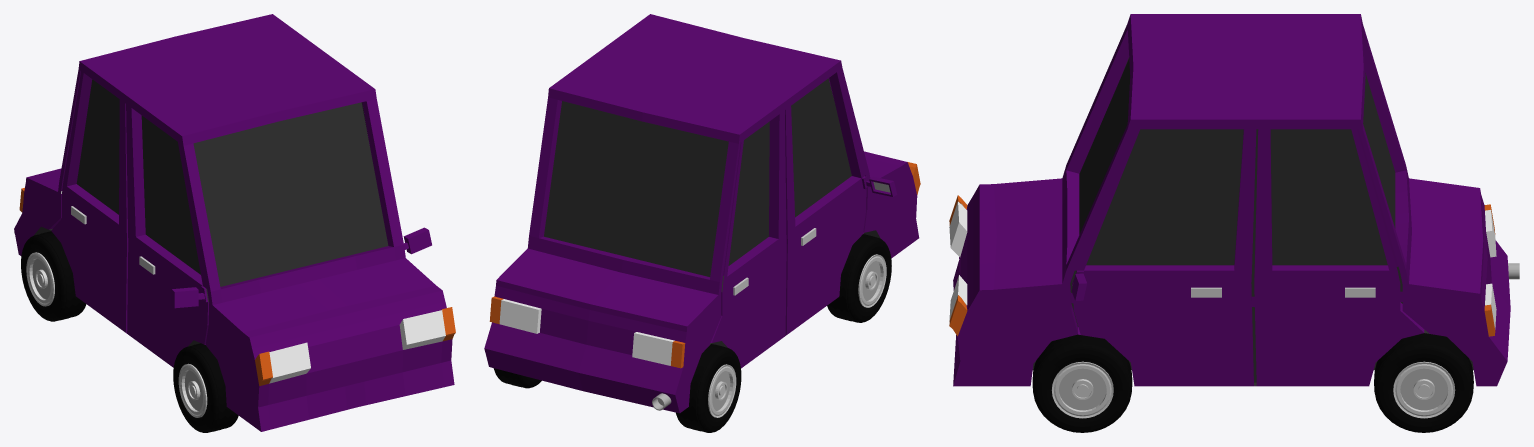
Rendered from CR-TAXI-1.fbx.
3 views of the same model, side by side, from view 1: azimuth 30°, elevation 25°; view 2: azimuth 150°, elevation 25°; view 3: azimuth 270°, elevation 25° (orthographic). The views are drawn at different scales.
Parts seen in each view (by area): view 1: BODY1, WHEEL.001, WHEEL.004; view 2: BODY1, WHEEL.004, WHEEL.001, WHEEL.002; view 3: BODY1, WHEEL.002, WHEEL.003.
Boxes of the visible parts, left/top/right/bottom form: BODY1: left=14, top=14, right=455, bottom=431; WHEEL.001: left=173, top=343, right=238, bottom=432; WHEEL.004: left=21, top=231, right=86, bottom=321; BODY1: left=484, top=14, right=920, bottom=413; WHEEL.004: left=676, top=344, right=741, bottom=432; WHEEL.001: left=827, top=234, right=891, bottom=322; WHEEL.002: left=493, top=368, right=541, bottom=388; BODY1: left=949, top=14, right=1510, bottom=386; WHEEL.002: left=1374, top=333, right=1473, bottom=432; WHEEL.003: left=1032, top=334, right=1132, bottom=432.
Bounding box in the file's own units: 131 × 134 × 223.
